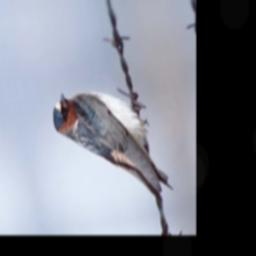Swallow: (48, 79, 179, 219)
